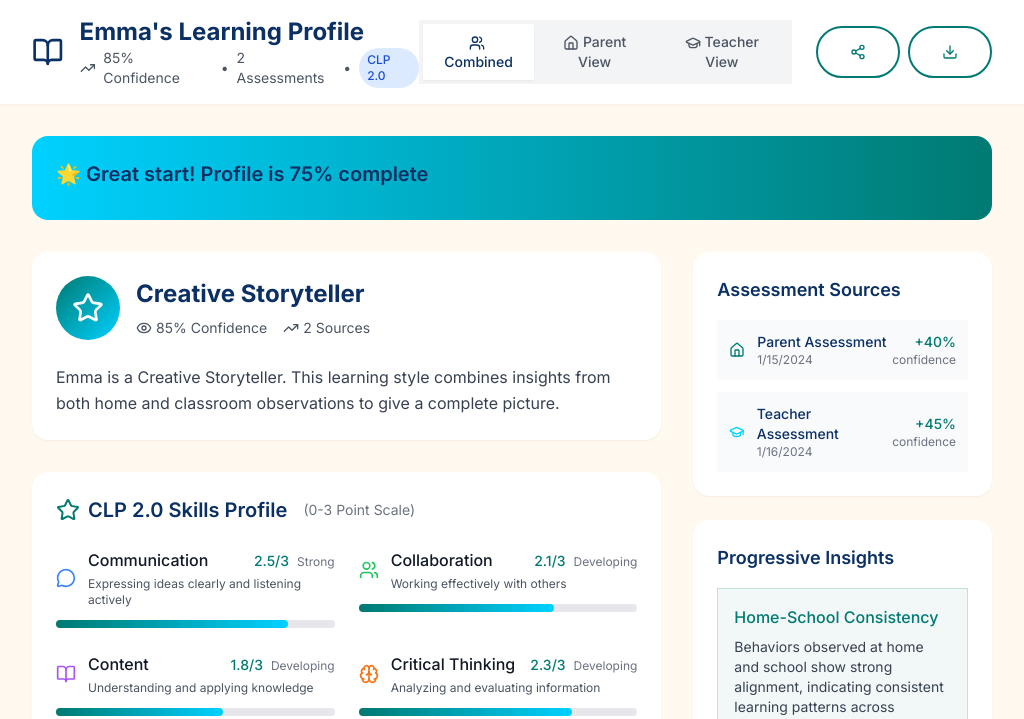
it: ContextualResultsPage › Recommendations and Next Steps › should show contextual recommendations based on view
The width and height of the screenshot is (1024, 719).
# Switch to parent view
Click the button "Parent View".
click(595, 52)  # box [534,24,656,80]
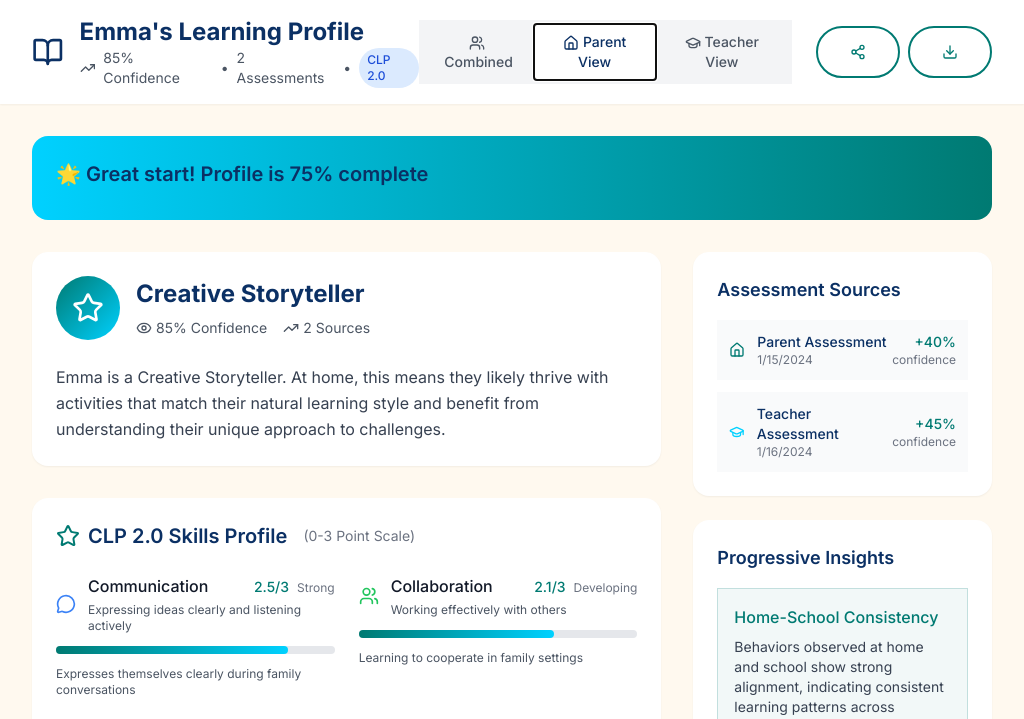
# Switch to teacher view
Click the button "Teacher View".
click(722, 52)  # box [656,24,788,80]
(page scrolled)
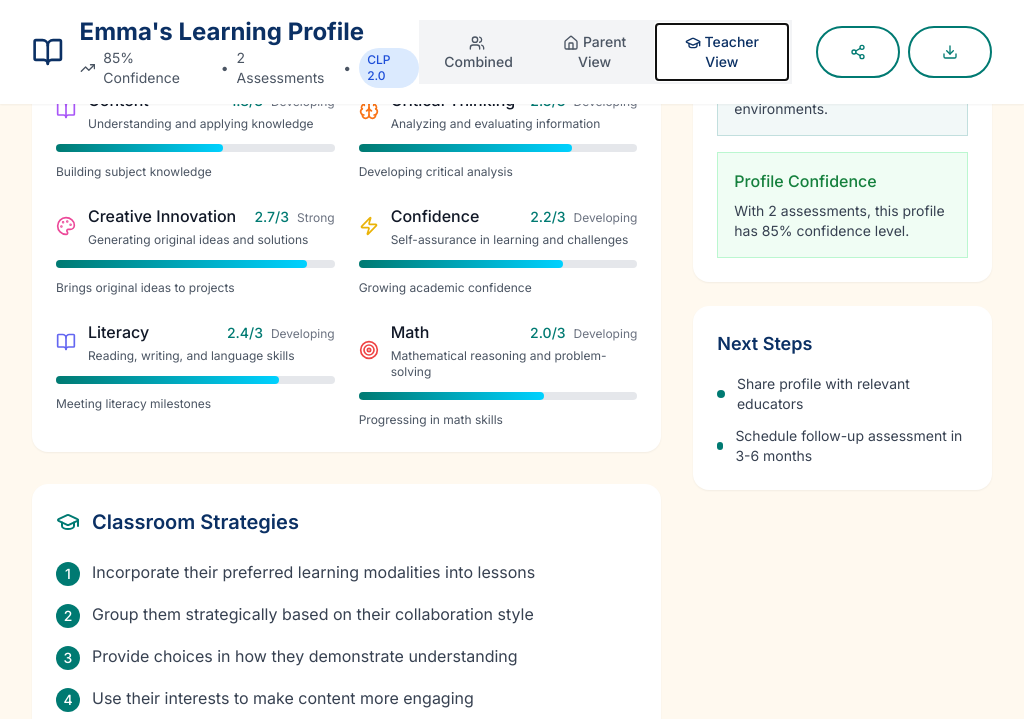
Expected: the heading "Classroom Strategies" is shown, [92,508,299,536]
